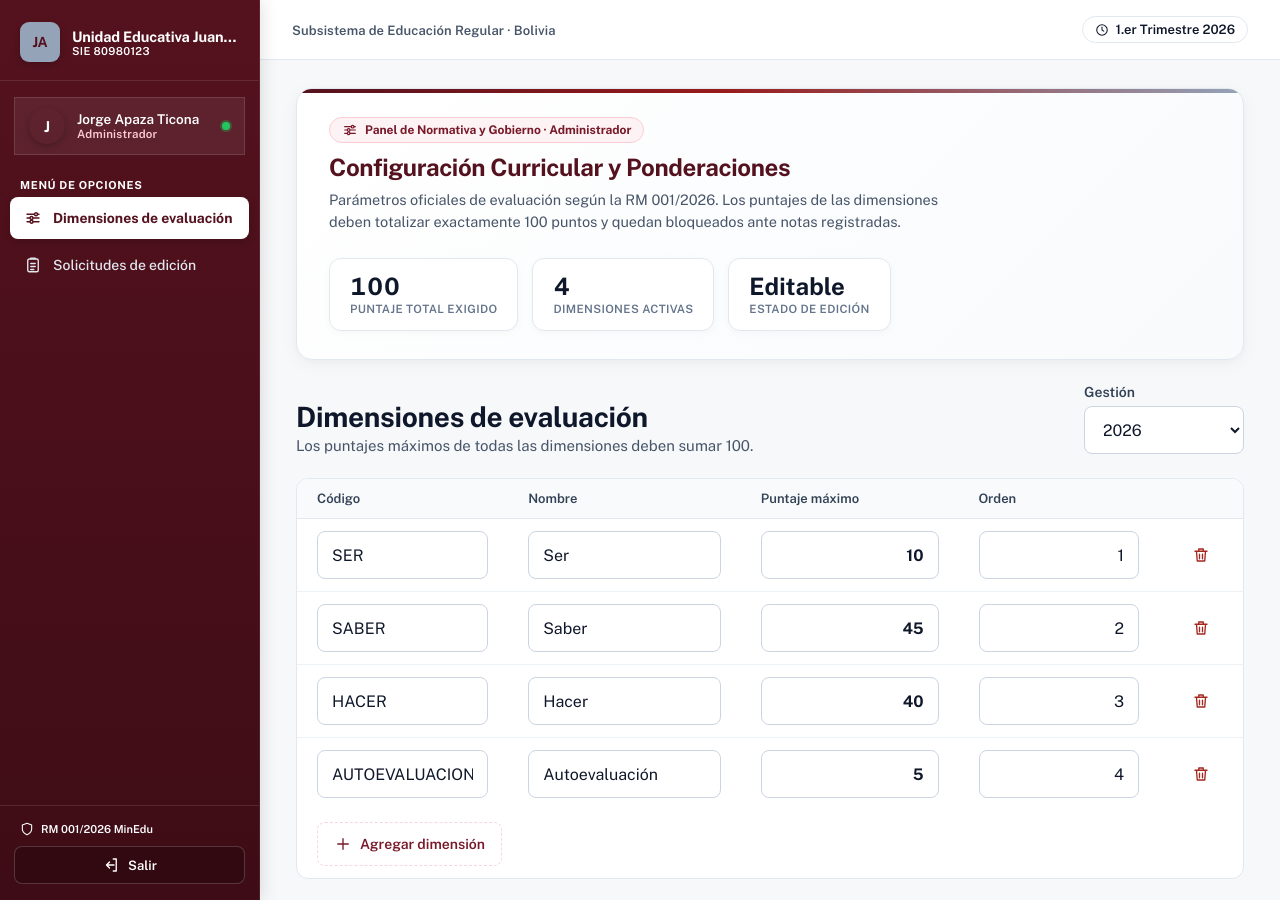
it: Dimensiones de evaluación (US-18, criterios 6 y 7) › debe permitir guardar solo cuando las dimensiones suman 100
This screenshot has width=1280, height=900.
Replace the text in the field named "Puntaje máximo de Hacer" with "35": (850, 701) [761,677,938,725]
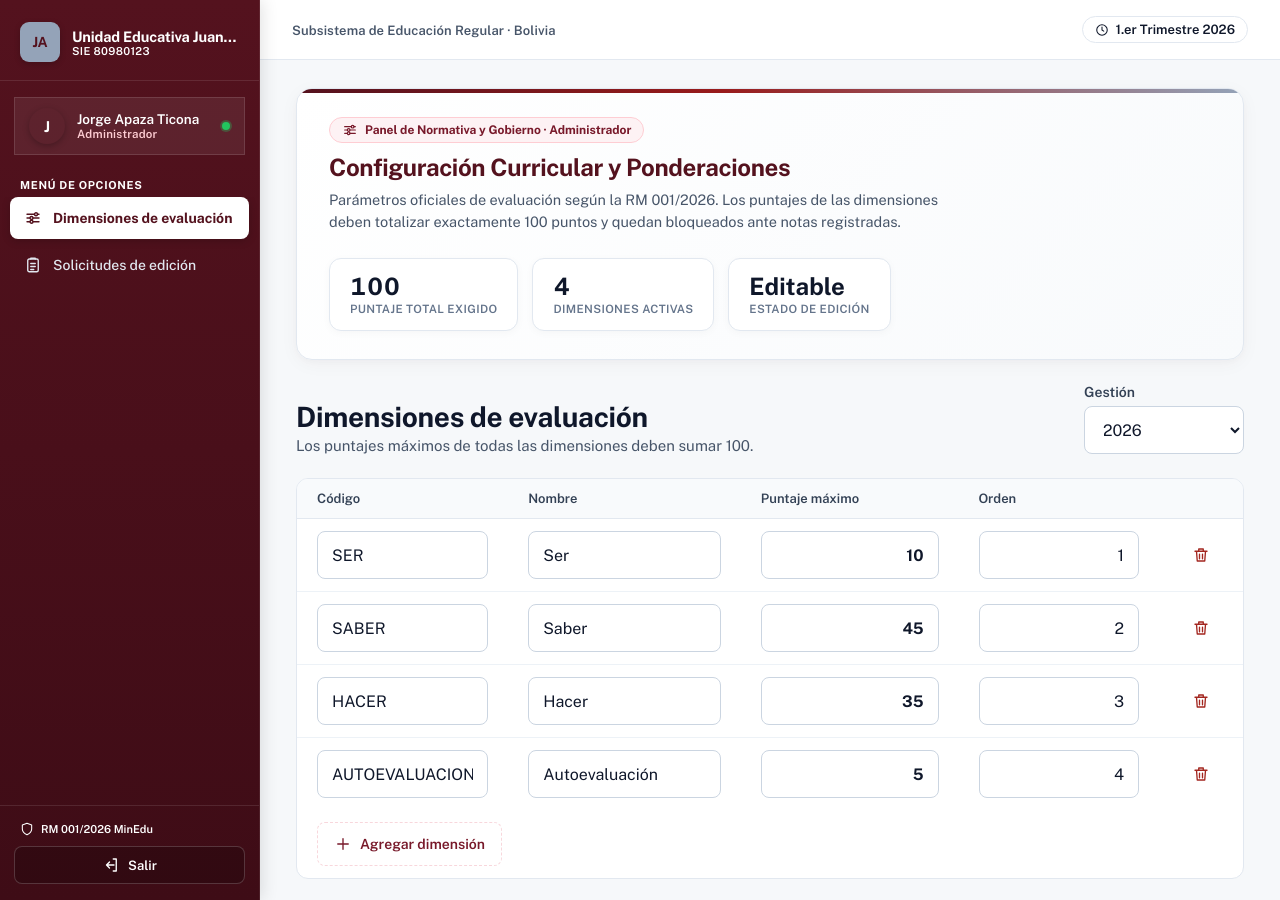
Replace the text in the field named "Puntaje máximo de Ser" with "15": (850, 555) [761,531,938,579]
(page scrolled)
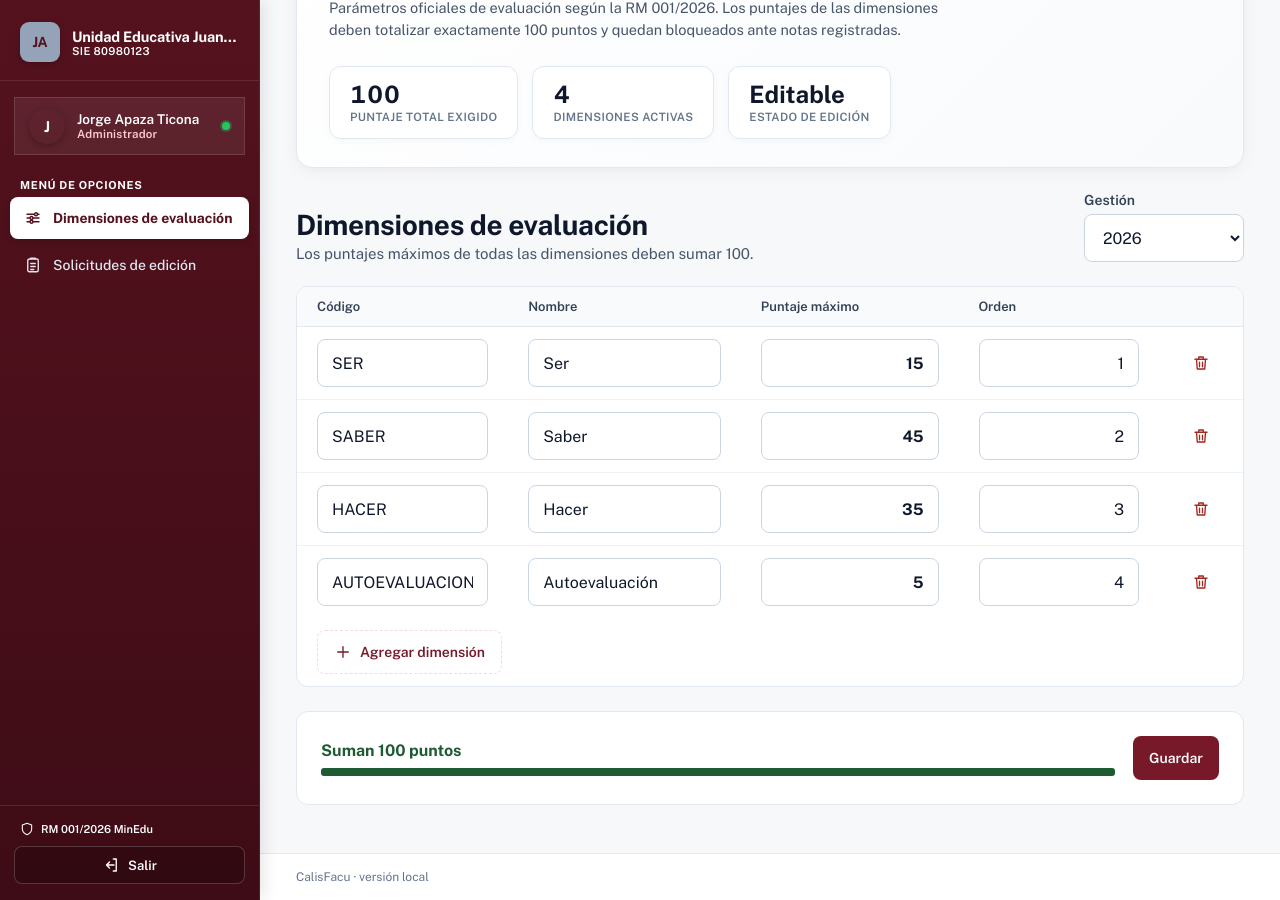
Click the button "Guardar": (1176, 758) [1133,736,1219,780]
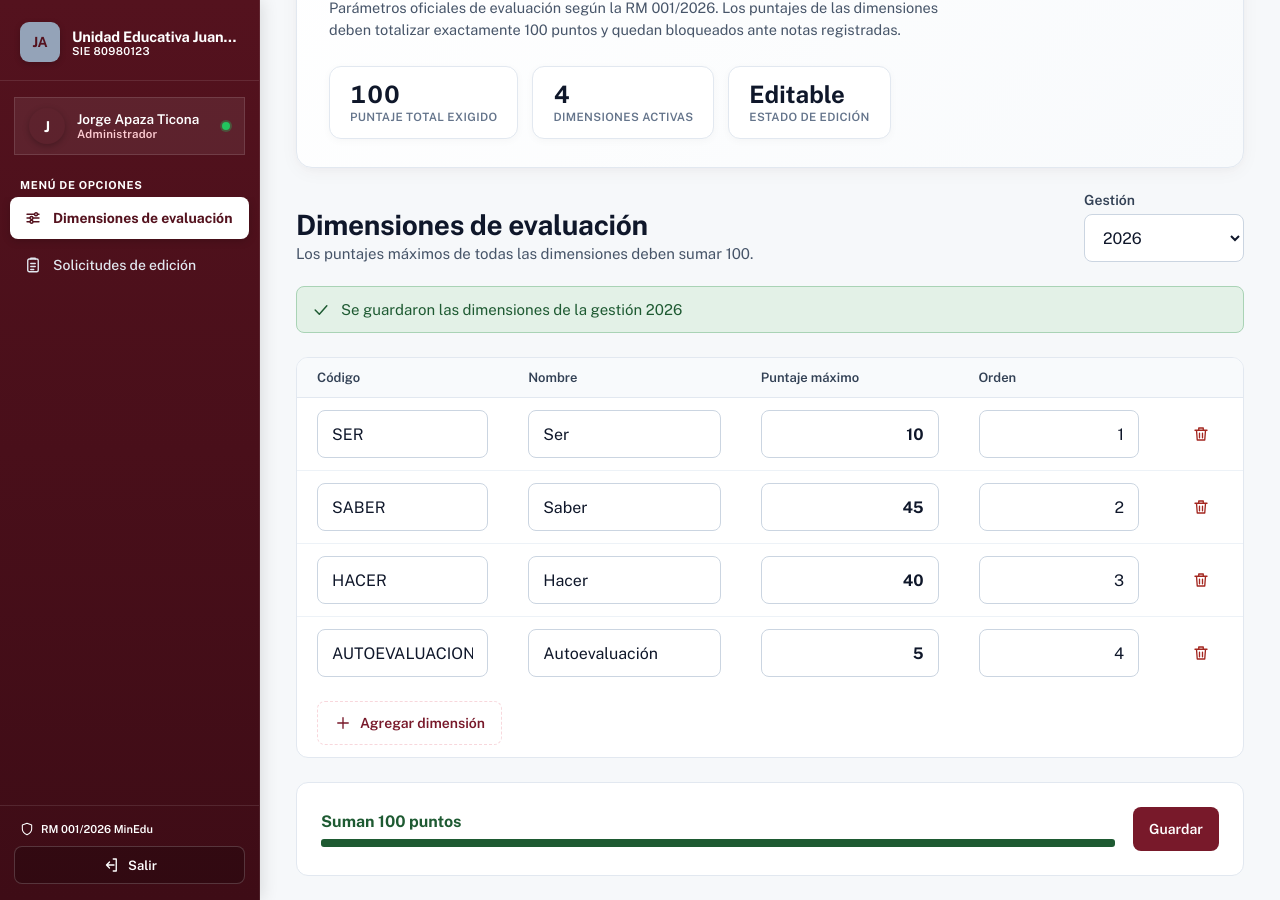
Now the text "Se guardaron las dimensiones de la gestión 2026" is shown, box [341,299,682,320]
